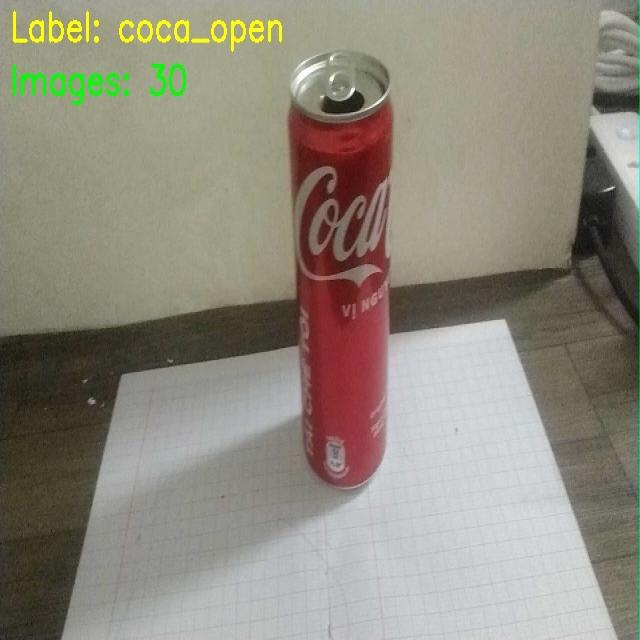Coca_open: (280, 50, 406, 491)
